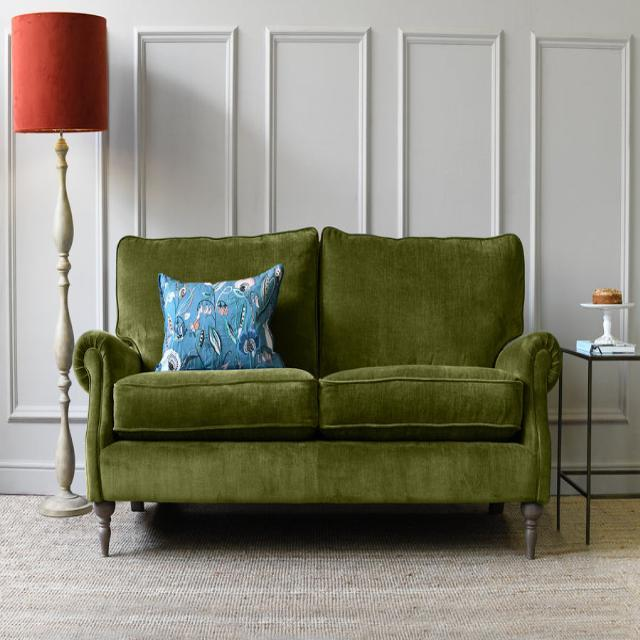sofa: (71, 224, 562, 561)
